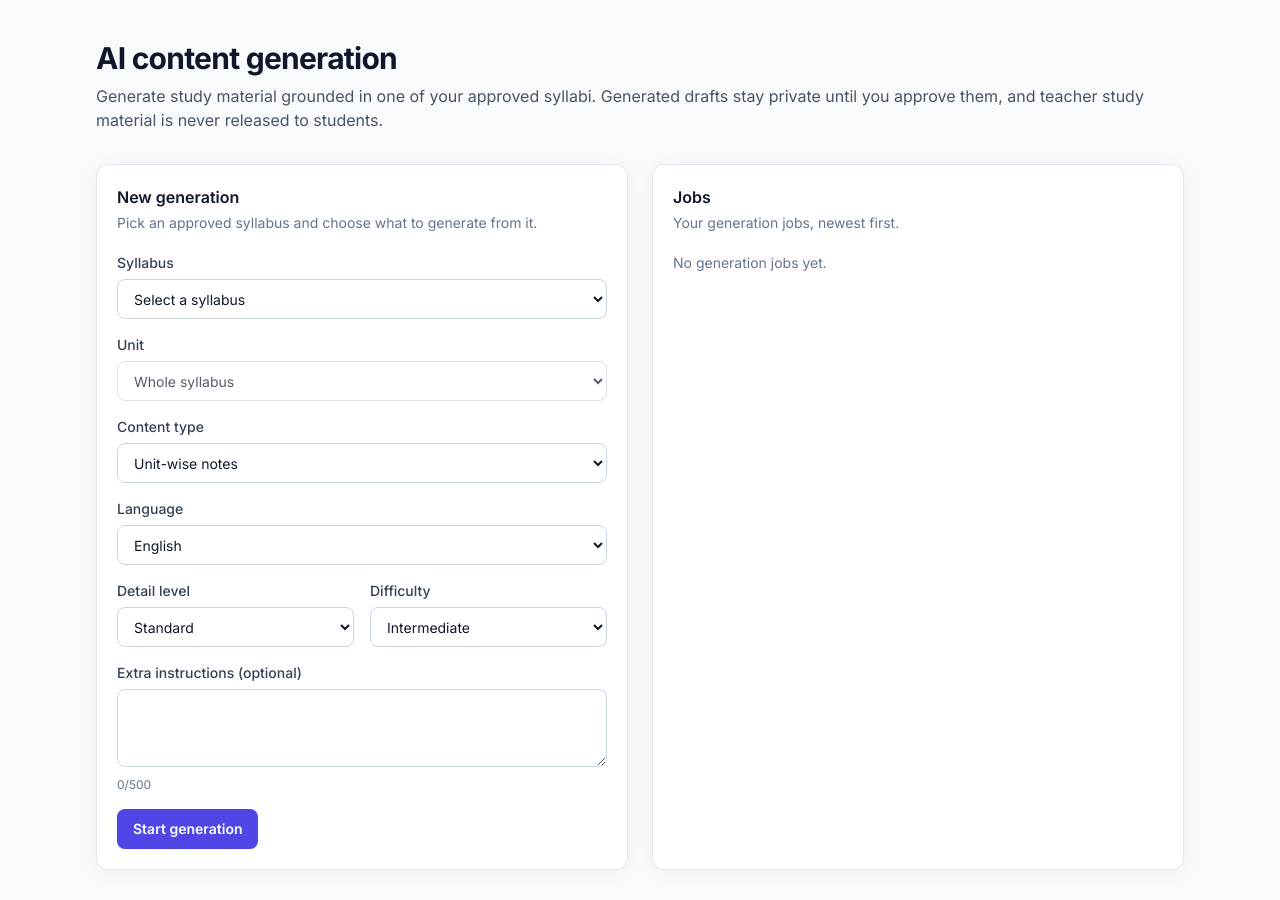
Test: TeacherContent › requires a syllabus before submitting
This screenshot has width=1280, height=900.
Expected: the dropdown labelled "Content type" is shown, [117,443,607,483]
Click the button "Start generation".
click(188, 829)  # box [117,809,258,849]
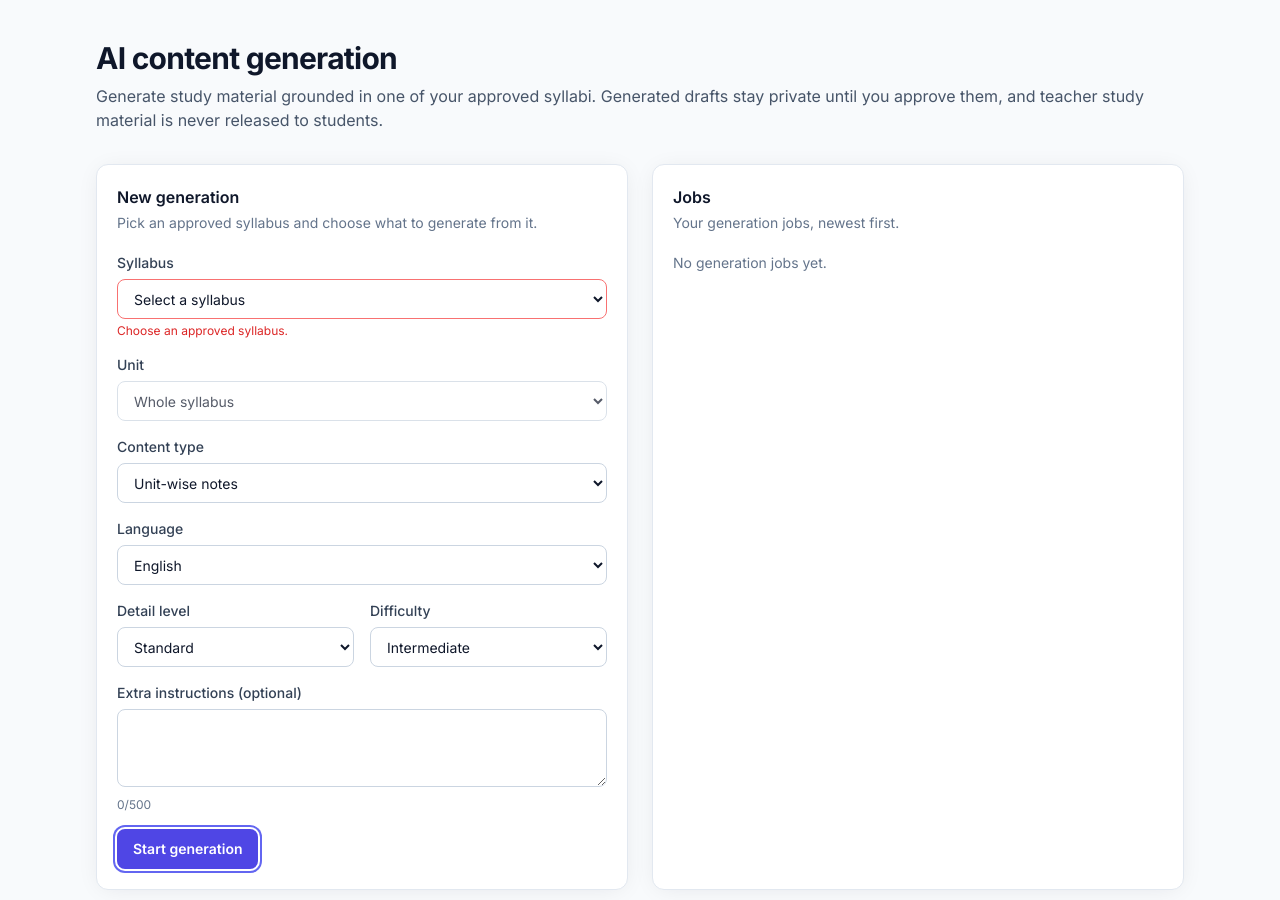
Now the text "Choose an approved syllabus." is shown, box [117,323,288,338]
